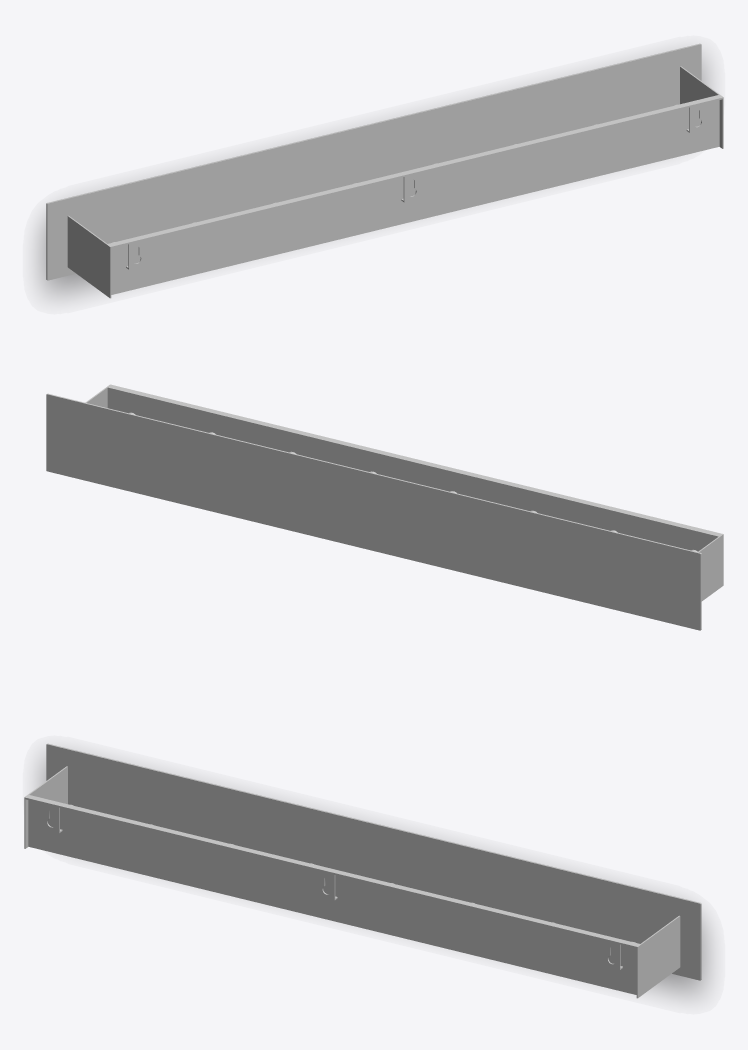
The model's file is skyline-hook.74b30f0a68.ar.glb.
3 views of the same model, one above another, from view 1: azimuth 30°, elevation 25°; view 2: azimuth 150°, elevation 25°; view 3: azimuth 330°, elevation 25° (orthographic).
Parts seen in each view (by area): view 1: NAUO1, object 2; view 2: NAUO1; view 3: NAUO1, object 2.
Part boxes in pixels (<box>): NAUO1: <box>46,43,723,298</box>; object 2: <box>38,61,708,295</box>; NAUO1: <box>46,384,723,630</box>; NAUO1: <box>24,743,701,998</box>; object 2: <box>39,761,709,995</box>.
Size of the model in its own units: 0.88 by 0.17 by 0.092.
Materials: 2 (1 with a texture image).
